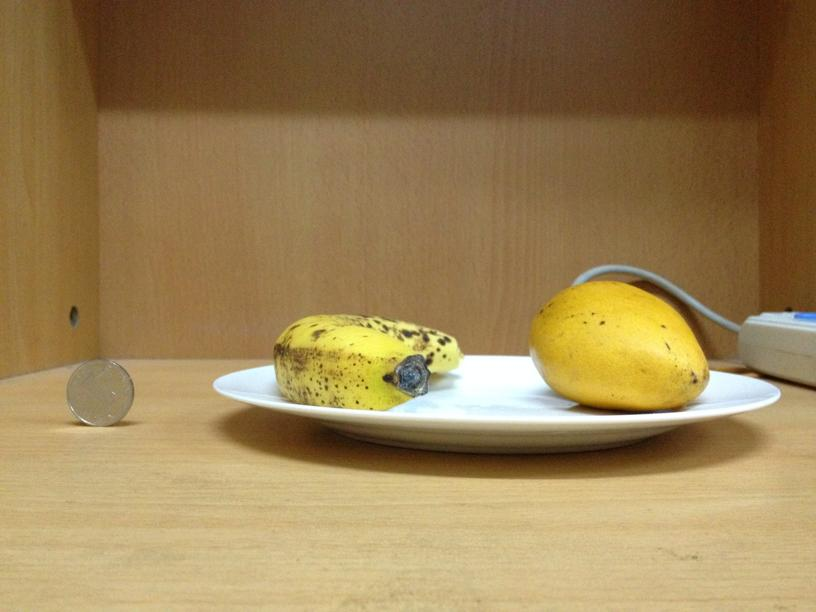banana: (273, 312, 461, 409)
coin: (65, 359, 134, 425)
mango: (531, 281, 708, 406)
